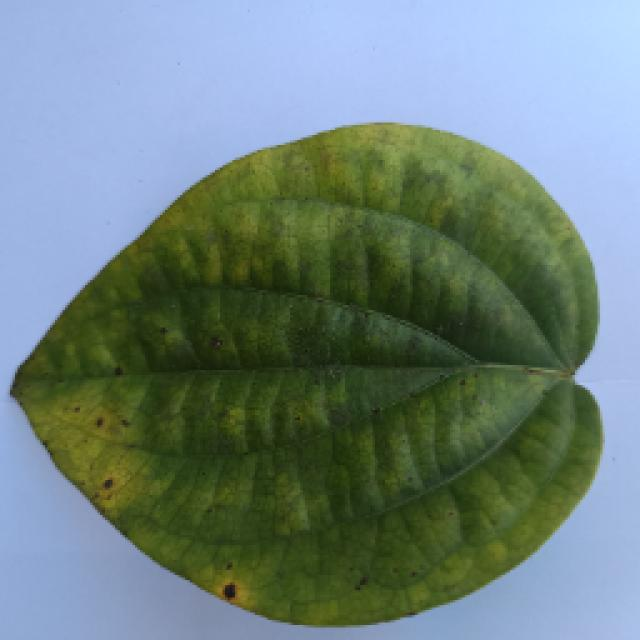slow-decline: (13, 125, 595, 623)
